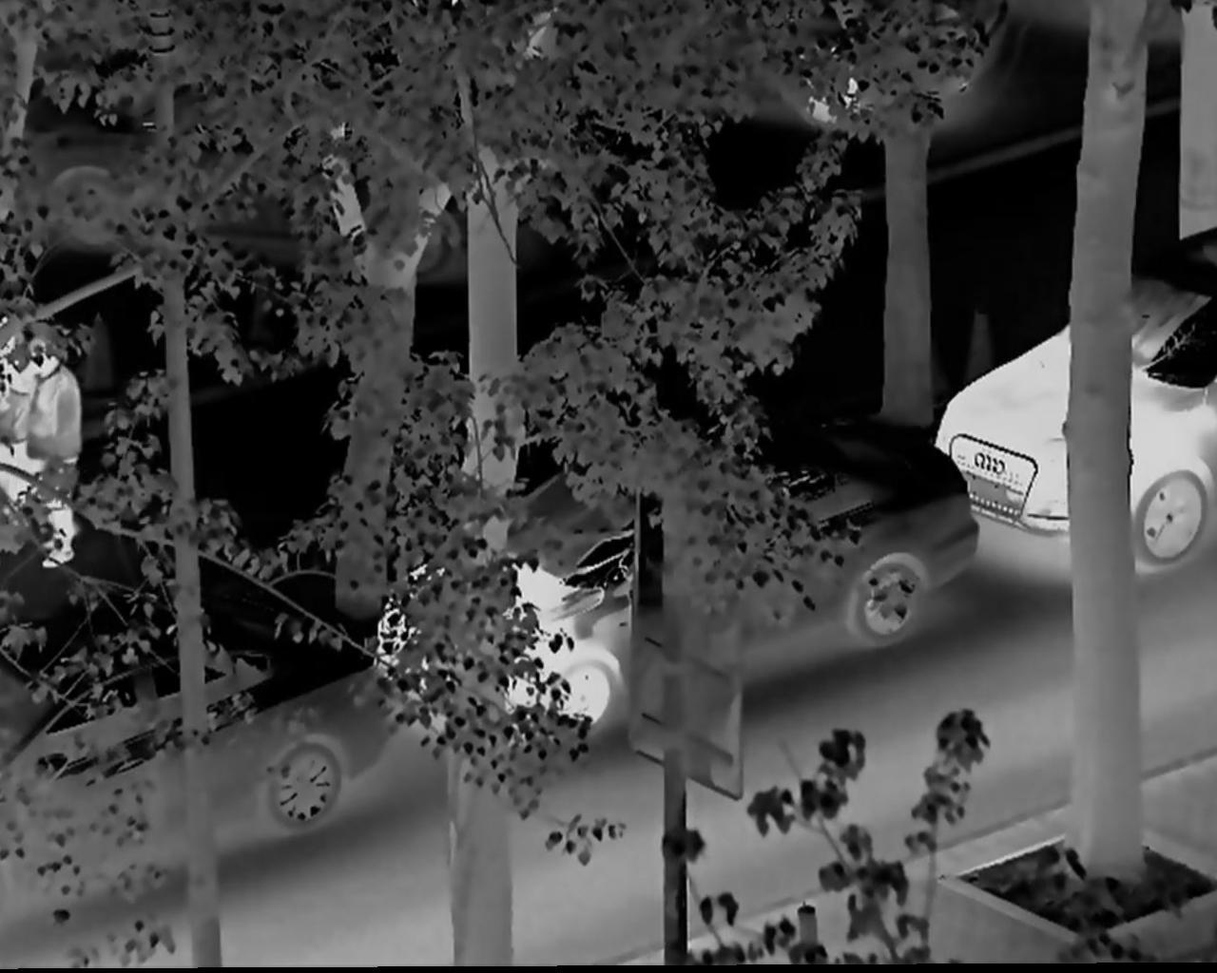person: (15, 326, 89, 545)
